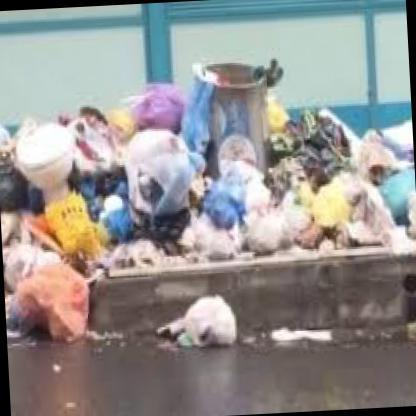Garbage: (1, 188, 320, 268), (297, 137, 398, 253), (8, 262, 97, 346), (116, 129, 191, 226), (202, 162, 288, 241), (238, 174, 311, 258), (170, 284, 244, 360), (80, 115, 126, 203), (275, 113, 329, 174), (132, 80, 182, 138), (176, 87, 212, 161)
